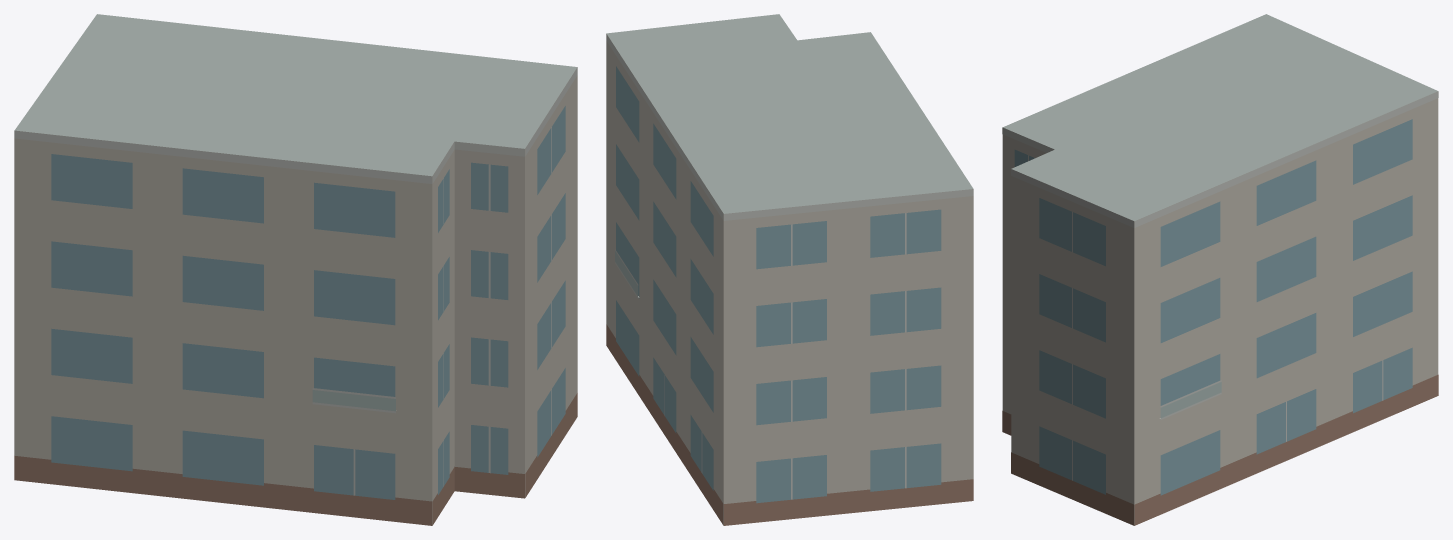
File: survey-upis-32885048.glb
3 renders of one model, left to right at view 1: azimuth 30°, elevation 25°; view 2: azimuth 150°, elevation 25°; view 3: azimuth 270°, elevation 25°, orthographic. The views are drawn at different scales.
Visible parts, largest first — view 1: survey-upis-32885048.tmp; view 2: survey-upis-32885048.tmp; view 3: survey-upis-32885048.tmp.
Boxes of the visible parts, bbox=[...] form: survey-upis-32885048.tmp: bbox=[14, 14, 577, 525]; survey-upis-32885048.tmp: bbox=[606, 14, 973, 525]; survey-upis-32885048.tmp: bbox=[1002, 14, 1438, 525].
Bounding box in the file's own units: 15.76 × 10.8 × 14.01.
